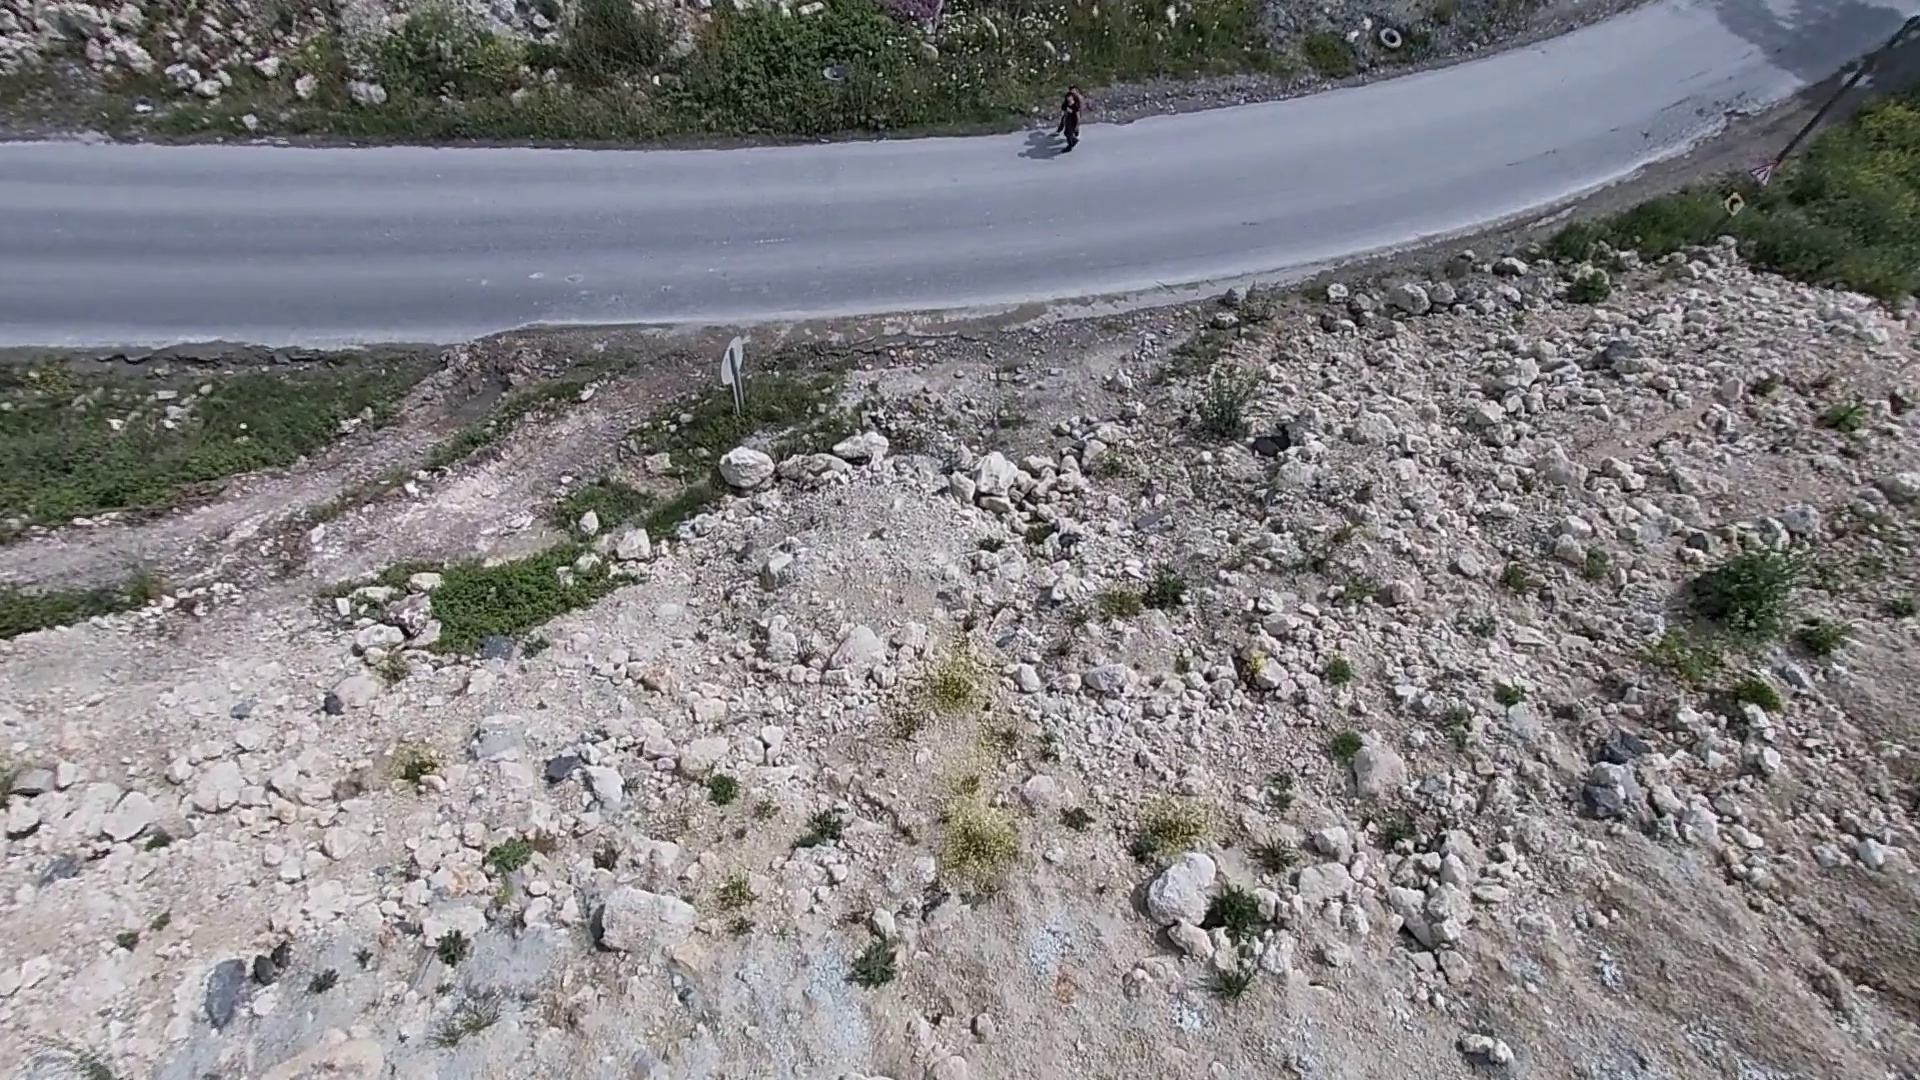insan: (1064, 85, 1096, 150), (1058, 92, 1086, 157)
